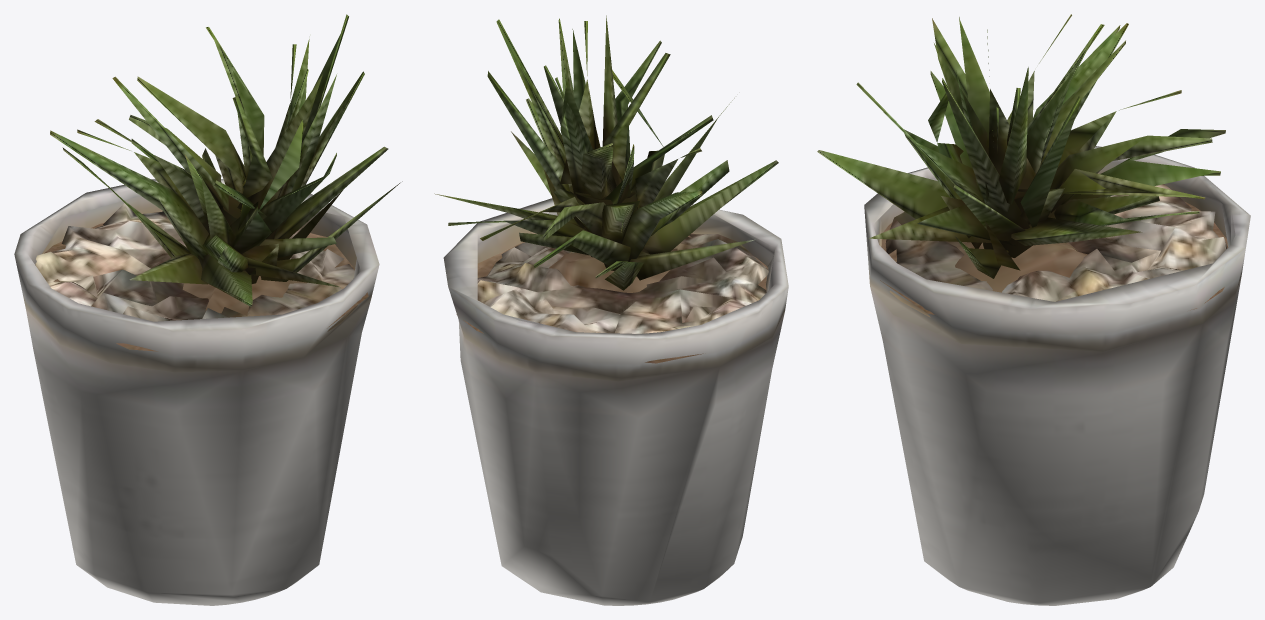
File: potted_plant_04_c.glb
3 renders of one model, left to right at view 1: azimuth 30°, elevation 25°; view 2: azimuth 150°, elevation 25°; view 3: azimuth 270°, elevation 25°, orthographic. The views are drawn at different scales.
Parts seen in each view (by area): view 1: potted_plant_04; view 2: potted_plant_04; view 3: potted_plant_04.
Part boxes in pixels (x1=…): potted_plant_04: x1=14, y1=14, x2=402, y2=605; potted_plant_04: x1=434, y1=15, x2=788, y2=605; potted_plant_04: x1=817, y1=14, x2=1250, y2=605.
Bounding box in the file's own units: 0.1665 × 0.2623 × 0.1833.
1 material, 1 textured.
